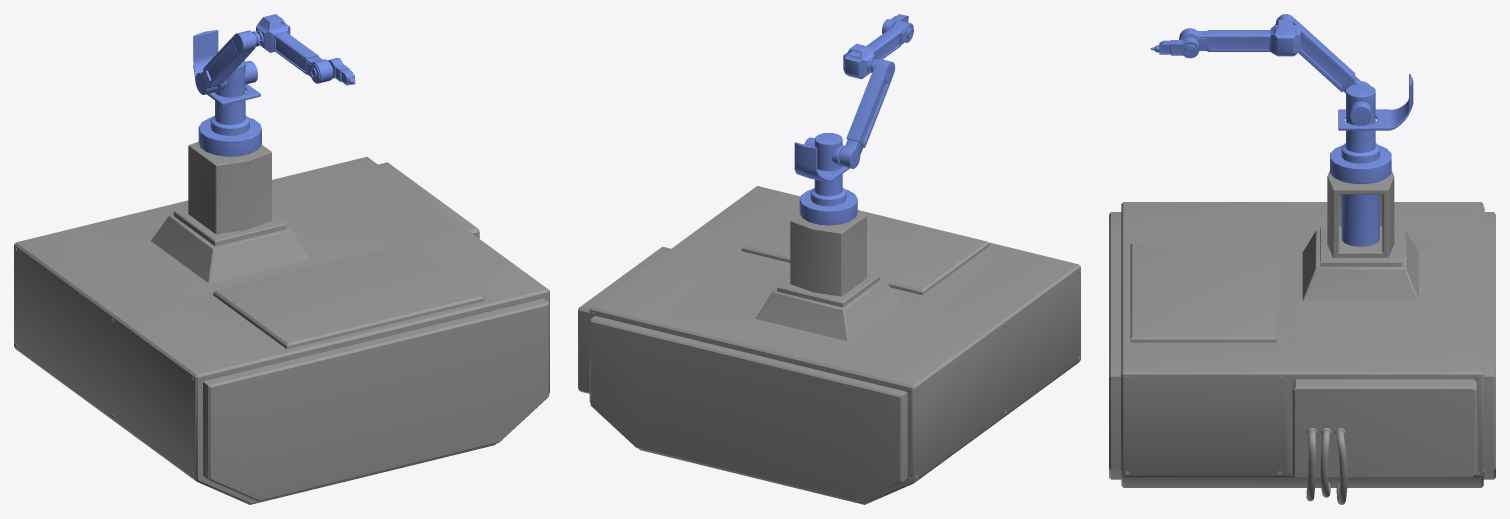
File: LaserArmHP.fbx
3 renders of one model, left to right at view 1: azimuth 30°, elevation 25°; view 2: azimuth 150°, elevation 25°; view 3: azimuth 270°, elevation 25°, orthographic. The views are drawn at different scales.
Parts seen in each view (by area): view 1: LaserArmHP; view 2: LaserArmHP; view 3: LaserArmHP.
Part boxes in pixels (<box>): LaserArmHP: <box>14,14,549,504</box>; LaserArmHP: <box>578,14,1080,504</box>; LaserArmHP: <box>1109,14,1495,504</box>.
Size of the model in its own units: 2.84 by 2.79 by 2.47.
